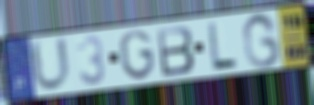3: (74, 34, 107, 89)
B: (154, 23, 197, 79)
G: (240, 11, 283, 70), (117, 28, 158, 81)
L: (206, 20, 240, 70)
U: (27, 34, 74, 94)
